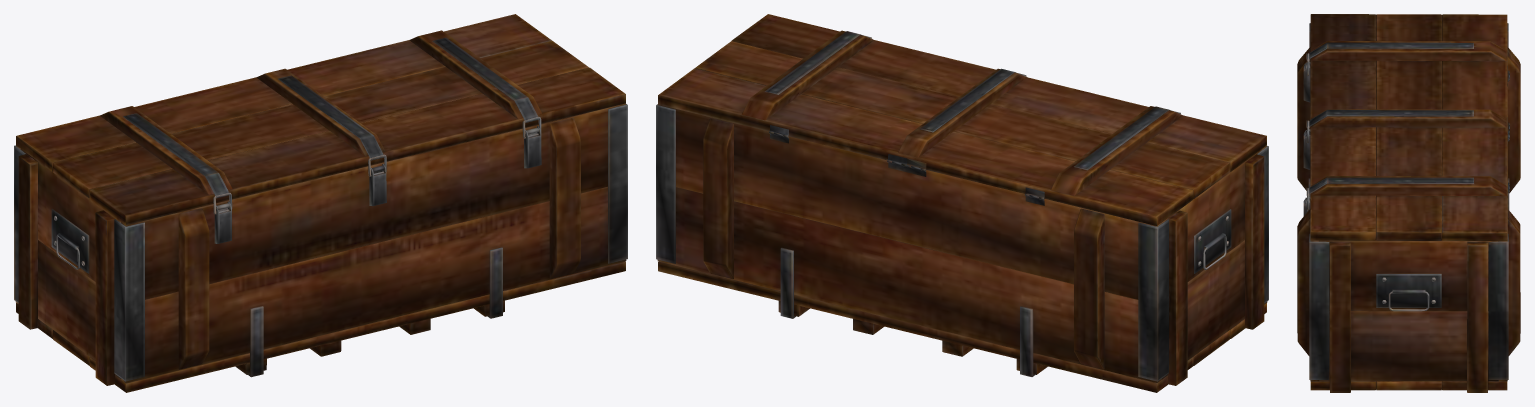
File: wooden_military_crate.glb
The picture shows the model from 3 angles, left to right: view 1: azimuth 30°, elevation 25°; view 2: azimuth 150°, elevation 25°; view 3: azimuth 270°, elevation 25°; orthographic projection. The views are drawn at different scales.
Visible parts, largest first — view 1: wooden_military_crate; view 2: wooden_military_crate; view 3: wooden_military_crate.
Part boxes in pixels (x1,y1,x2,y2): wooden_military_crate: (14, 14, 627, 392); wooden_military_crate: (656, 14, 1268, 392); wooden_military_crate: (1297, 14, 1520, 392).
Bounding box in the file's own units: 1.24 × 0.4639 × 0.5198.
Materials: 1 (1 with a texture image).
